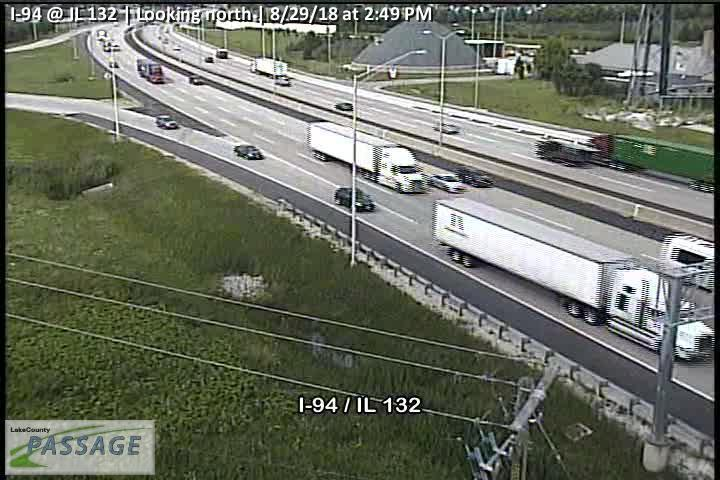Sedan: (334, 187, 373, 210), (429, 175, 466, 193), (460, 169, 495, 188), (231, 145, 262, 160), (156, 114, 178, 128), (434, 122, 458, 133), (337, 103, 351, 110)
Truck: (429, 195, 714, 365), (306, 120, 426, 195), (587, 131, 715, 193), (248, 58, 288, 77), (137, 58, 164, 83)
